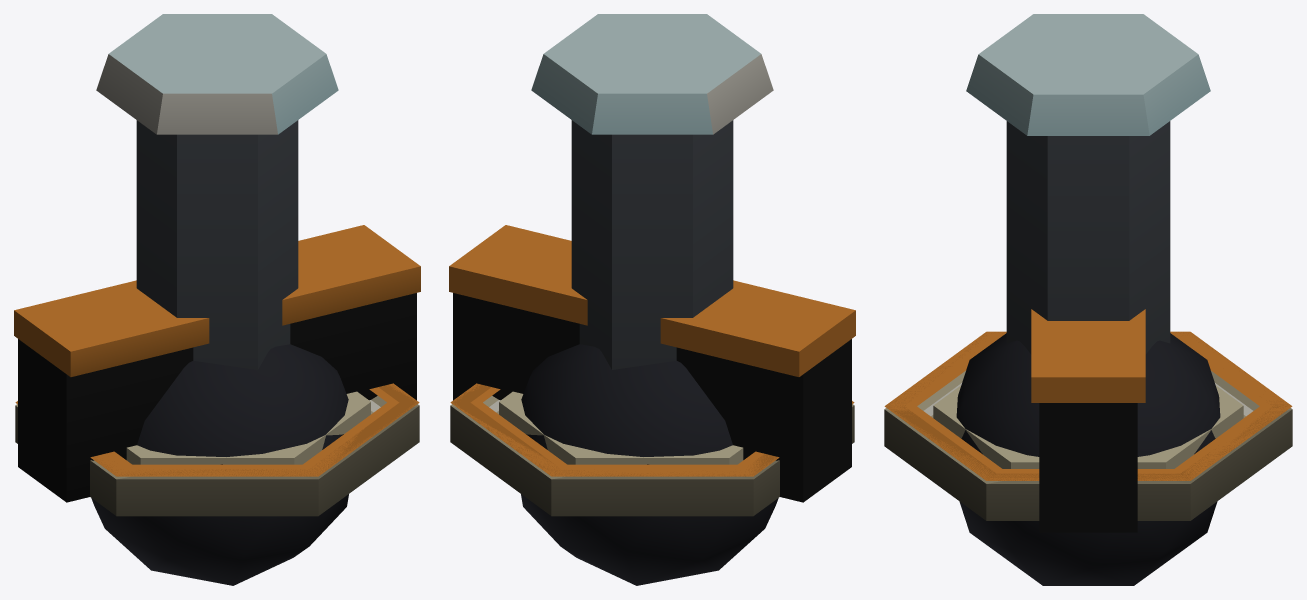
The model's file is kit-arena.glb.
The picture shows the model from 3 angles, left to right: view 1: azimuth 30°, elevation 25°; view 2: azimuth 150°, elevation 25°; view 3: azimuth 270°, elevation 25°; orthographic projection.
Visible parts, largest first — view 1: kit_post_parapet, kit_wall_claim, kit_marble_black, kit_cell_hex, kit_ring_lastmove, kit_pedestal_flat, kit_ring_lastmove_origin; view 2: kit_post_parapet, kit_wall_claim, kit_marble_black, kit_cell_hex, kit_ring_lastmove, kit_pedestal_flat, kit_ring_lastmove_origin; view 3: kit_post_parapet, kit_marble_black, kit_wall_claim, kit_cell_hex, kit_ring_lastmove, kit_pedestal_flat, kit_ring_lastmove_origin.
Boxes of the visible parts, x1,y1,x2,y2 form: kit_post_parapet: [96, 14, 338, 369]; kit_wall_claim: [14, 225, 420, 502]; kit_marble_black: [91, 344, 348, 585]; kit_cell_hex: [15, 396, 419, 516]; kit_ring_lastmove: [15, 383, 419, 476]; kit_pedestal_flat: [126, 391, 370, 464]; kit_ring_lastmove_origin: [16, 384, 418, 476]; kit_post_parapet: [531, 14, 773, 369]; kit_wall_claim: [449, 225, 855, 502]; kit_marble_black: [521, 344, 778, 585]; kit_cell_hex: [450, 396, 854, 516]; kit_ring_lastmove: [450, 383, 854, 476]; kit_pedestal_flat: [499, 391, 743, 464]; kit_ring_lastmove_origin: [451, 383, 853, 476]; kit_post_parapet: [966, 14, 1210, 354]; kit_marble_black: [956, 333, 1220, 585]; kit_wall_claim: [1031, 309, 1145, 532]; kit_cell_hex: [884, 371, 1292, 520]; kit_ring_lastmove: [884, 331, 1291, 480]; kit_pedestal_flat: [933, 385, 1243, 468]; kit_ring_lastmove_origin: [885, 331, 1290, 480].
Size of the model in its own units: 1 by 1.42 by 1.
